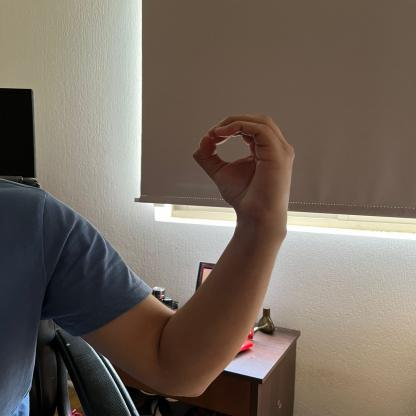O: (190, 107, 300, 212)
